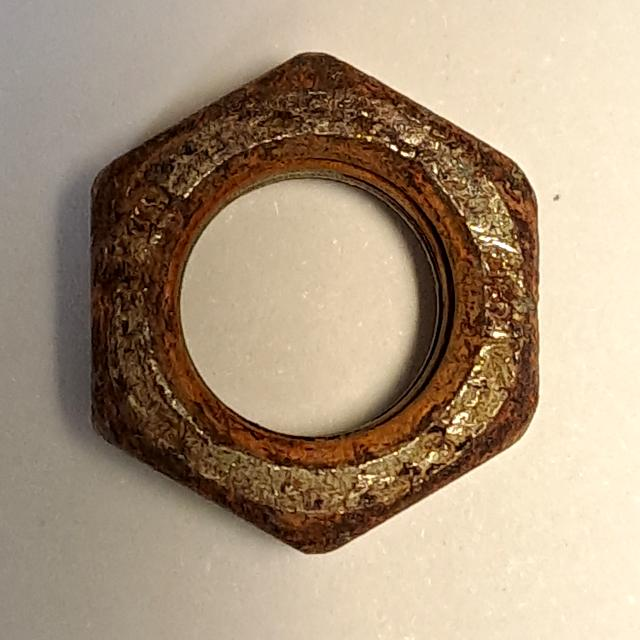Rust: (77, 36, 552, 568)
